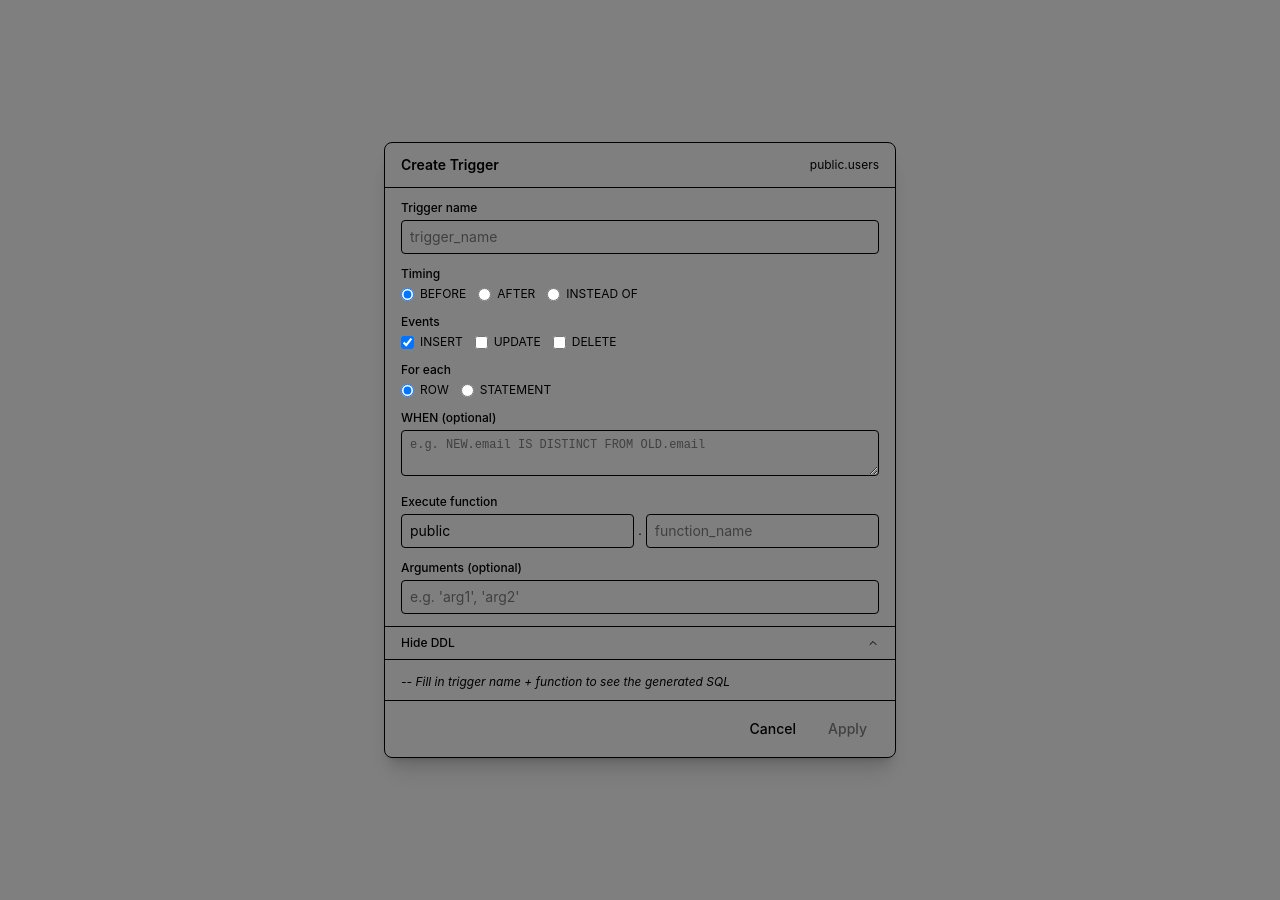
Test: CreateTriggerDialog — Sprint 273 › INSTEAD OF disables the STATEMENT orientation radio (defense-in-depth UX guard)
The width and height of the screenshot is (1280, 900).
What coordinates should you click on to do the following:
click the radio button with aria-label "Timing INSTEAD OF"
I would click on:
 (554, 294)
Its box is [547,288,560,300].
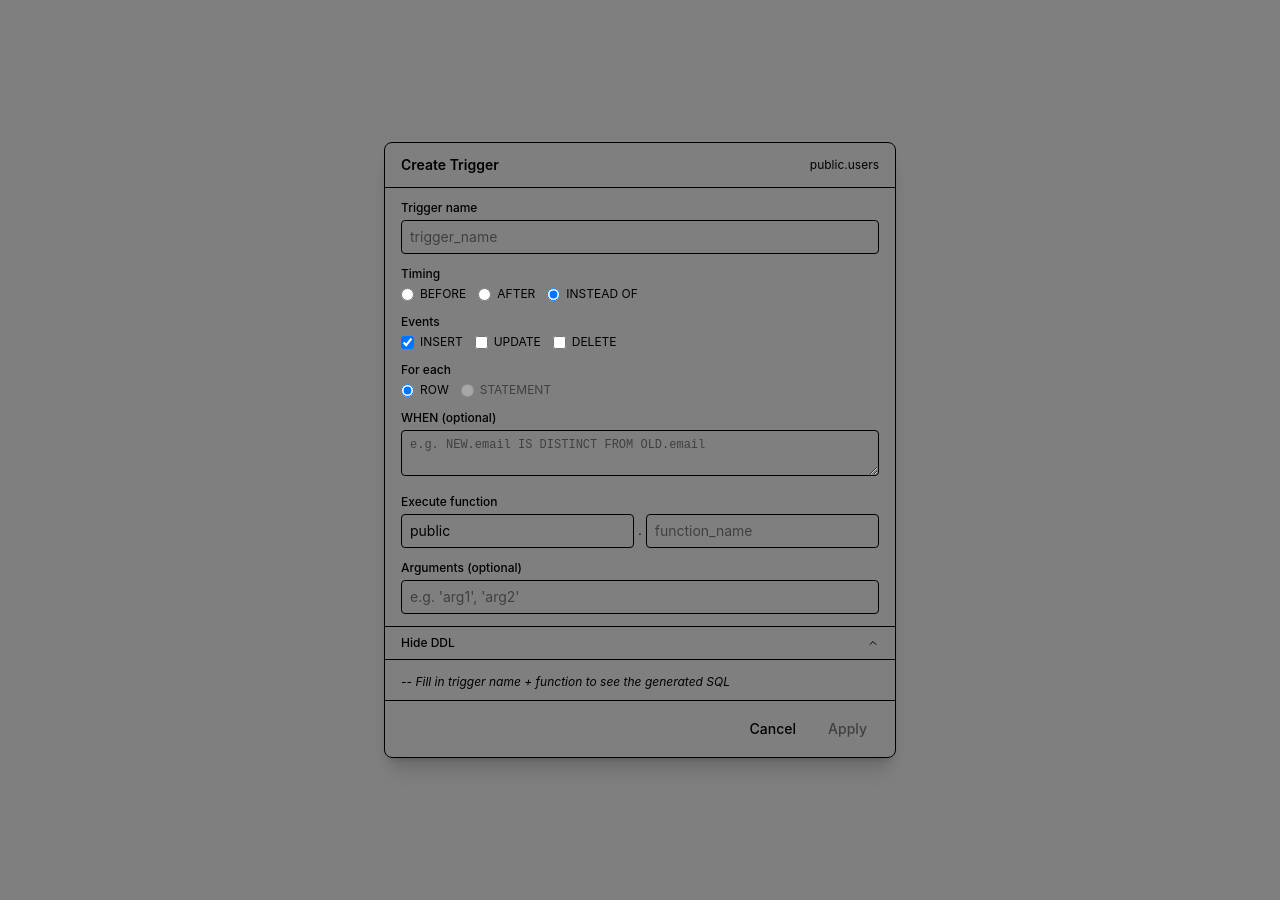
Expected: the radio button with aria-label "Orientation STATEMENT" is disabled, [461,384,474,396]
